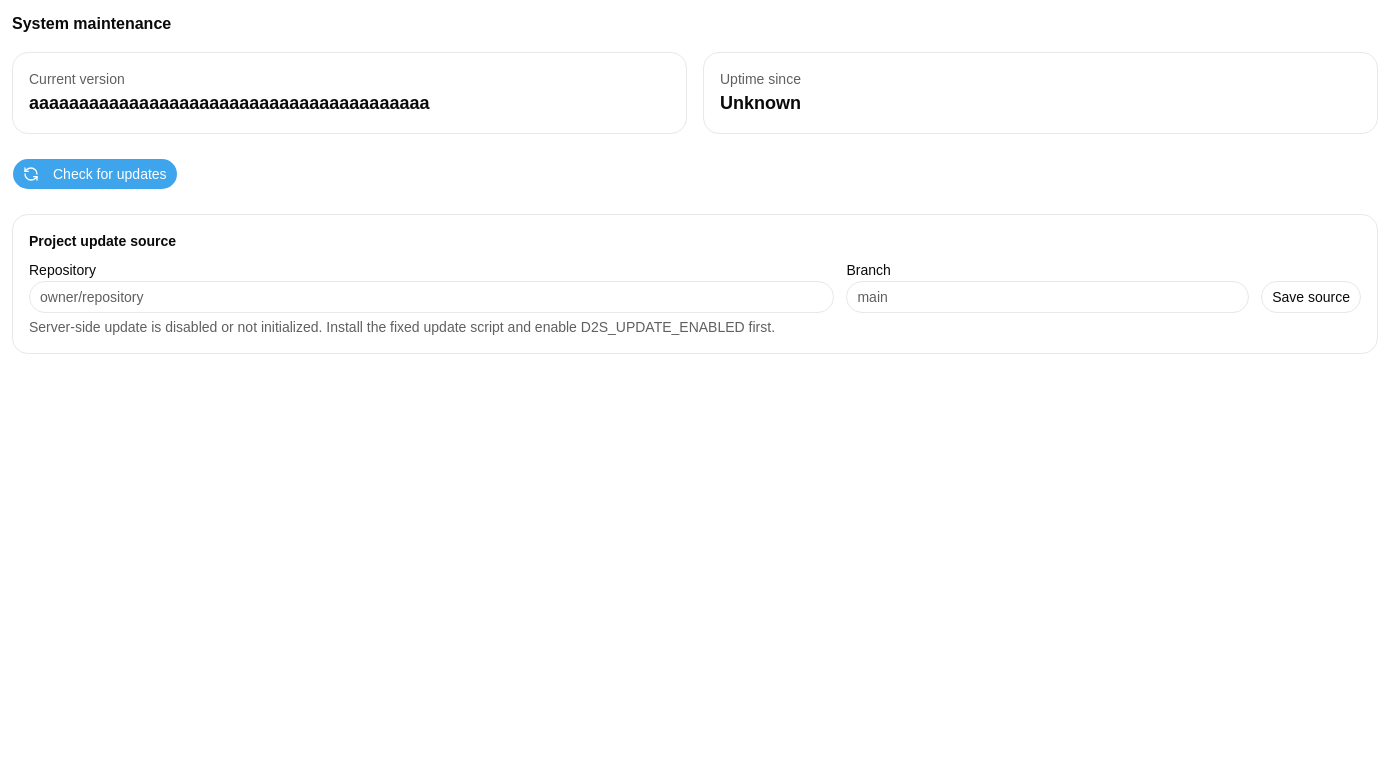
Test case: UpdateCheckerSection › shows the failure and restores the update button after polling
Click the button "Check for updates".
click(95, 174)  # box [12,158,178,190]
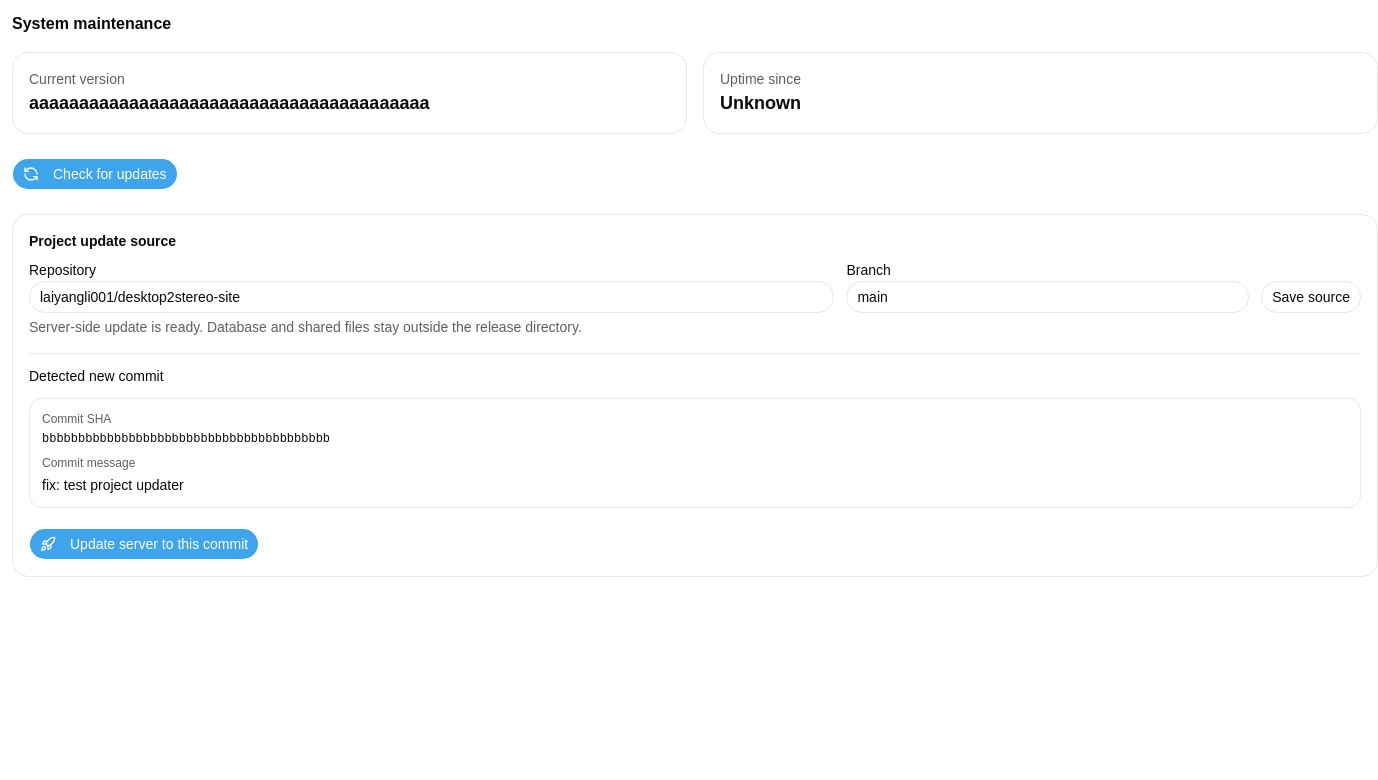
Click the button "Update server to this commit".
click(144, 544)  # box [29,528,259,560]
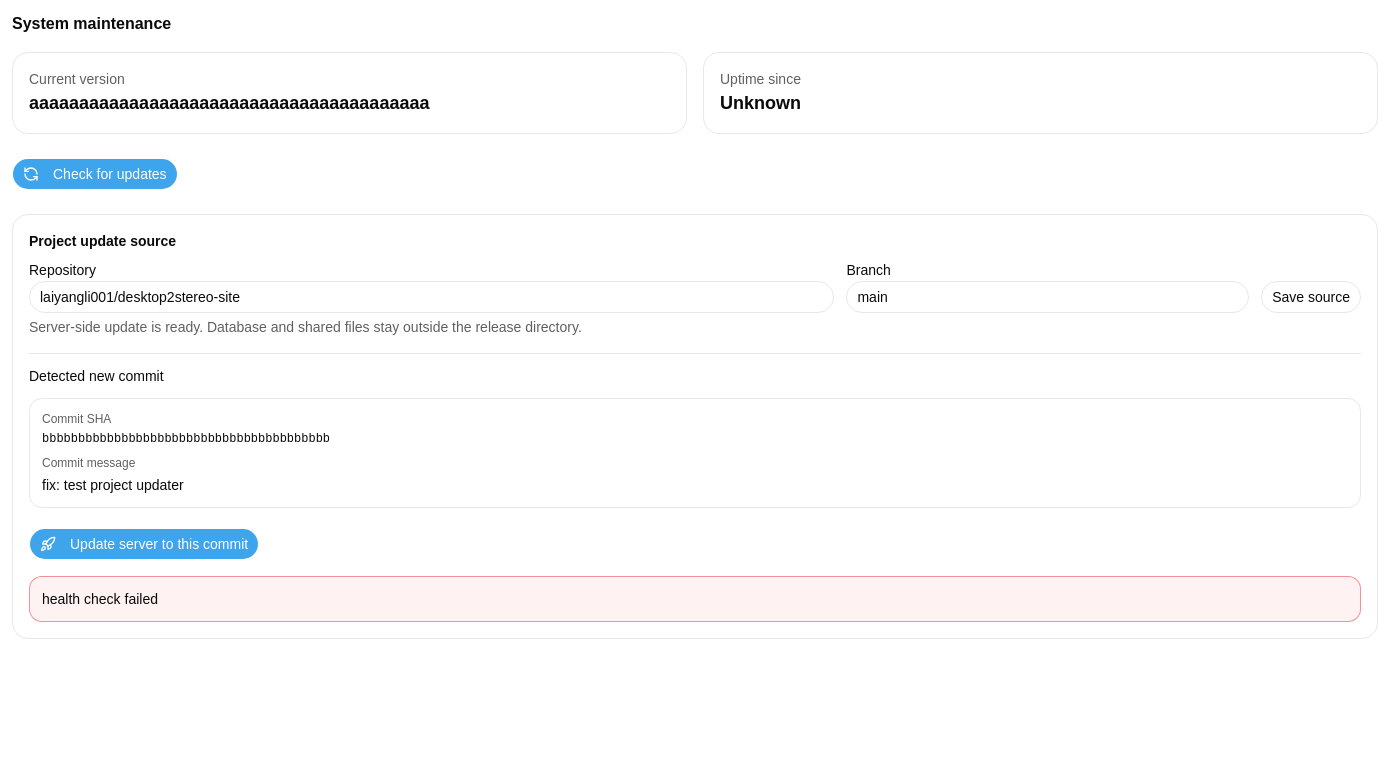
Check: the button "Update server to this commit" is enabled, box [29,528,259,560]
Check: the text "health check failed" is shown, box [29,576,1361,622]
